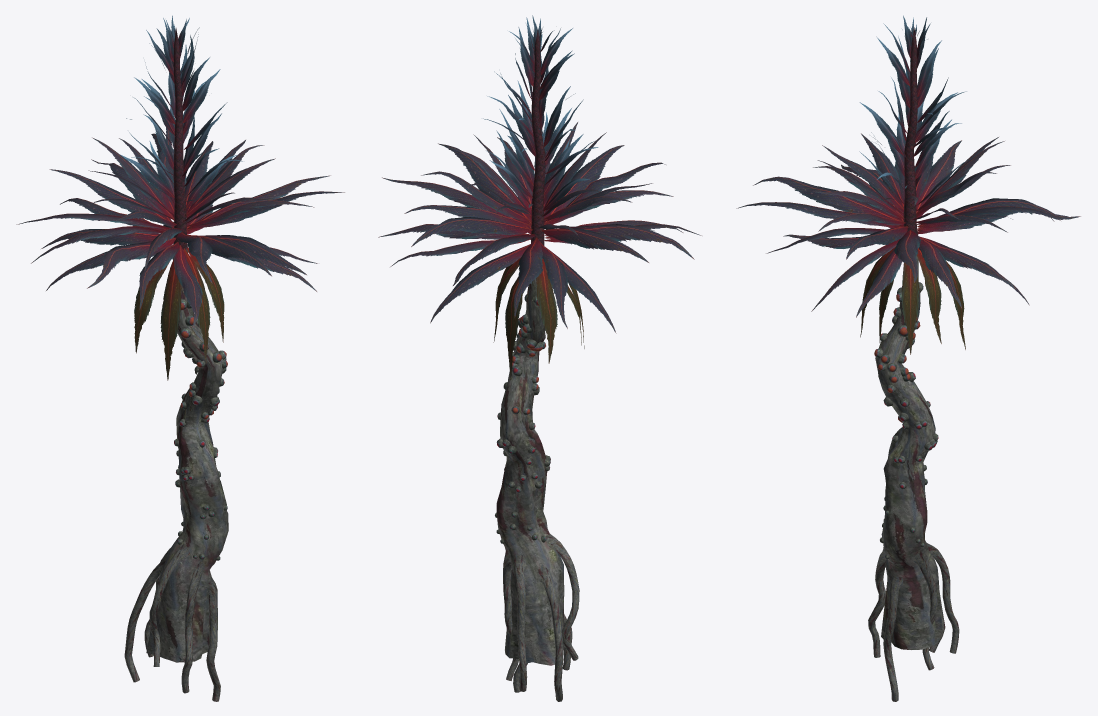
The model's file is Plant - Alien Plant 15A-CjyJoHZ_.glb.
The picture shows the model from 3 angles, left to right: view 1: azimuth 30°, elevation 25°; view 2: azimuth 150°, elevation 25°; view 3: azimuth 270°, elevation 25°; orthographic projection. The views are drawn at different scales.
Parts seen in each view (by area): view 1: Plant15A(Clone); view 2: Plant15A(Clone); view 3: Plant15A(Clone).
Part boxes in pixels (x1,y1,x2,y2): Plant15A(Clone): (16, 15, 344, 701); Plant15A(Clone): (378, 15, 701, 701); Plant15A(Clone): (736, 15, 1080, 701).
Size of the model in its own units: 9.07 by 19.07 by 9.08.
Materials: 4 (4 with a texture image).
